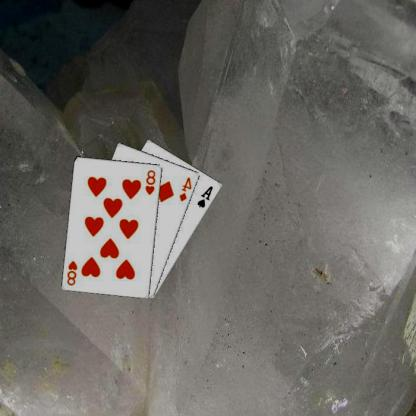4D: (179, 174, 195, 202)
8H: (144, 167, 159, 196), (67, 258, 80, 286)
AS: (197, 183, 216, 209)
